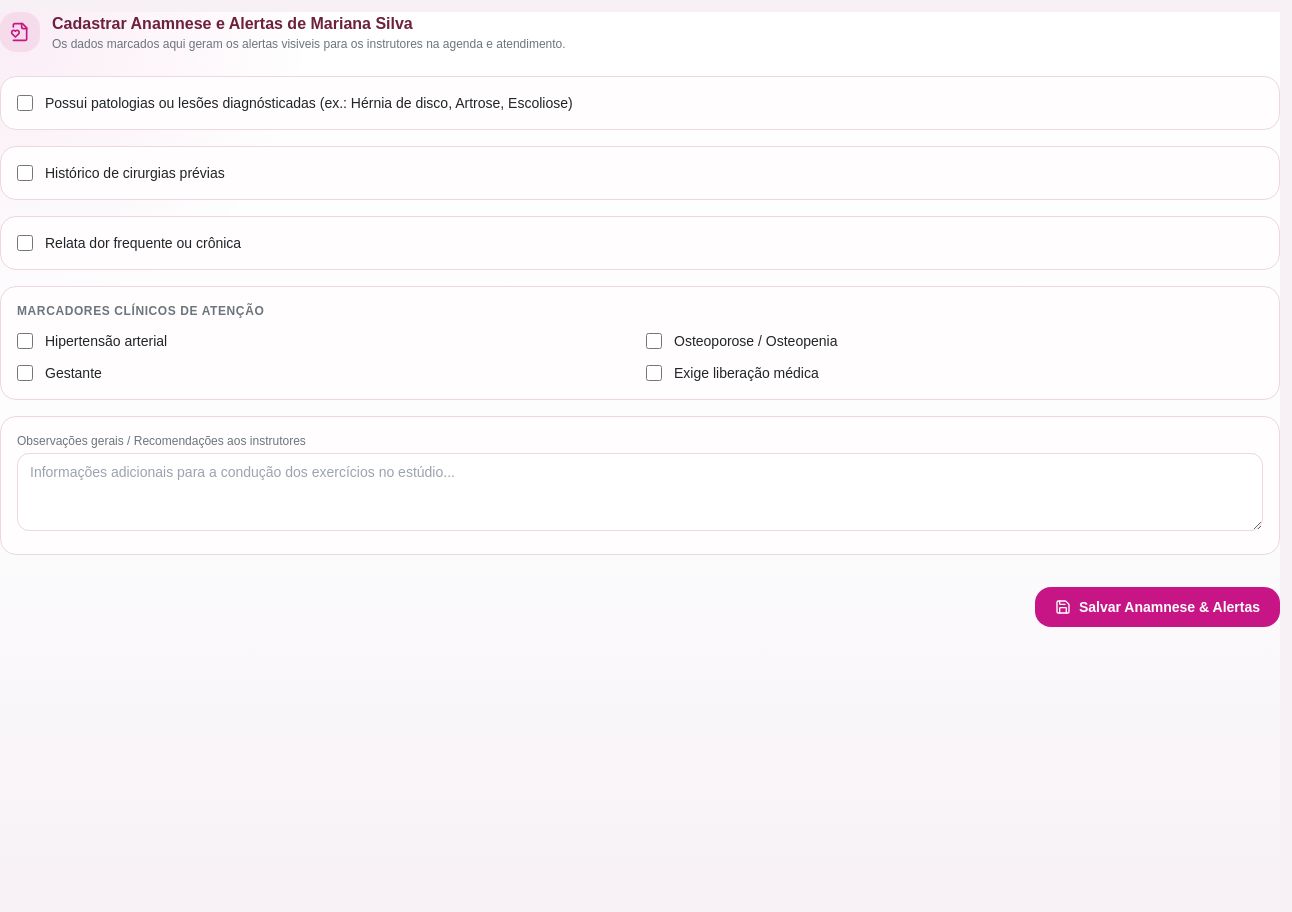
Scenario: AnamnesisForm component › exibe mensagem de erro quando a API retorna erro
The width and height of the screenshot is (1292, 912).
Click the button "Salvar Anamnese & Alertas": (1157, 607) [1035,587,1280,627]
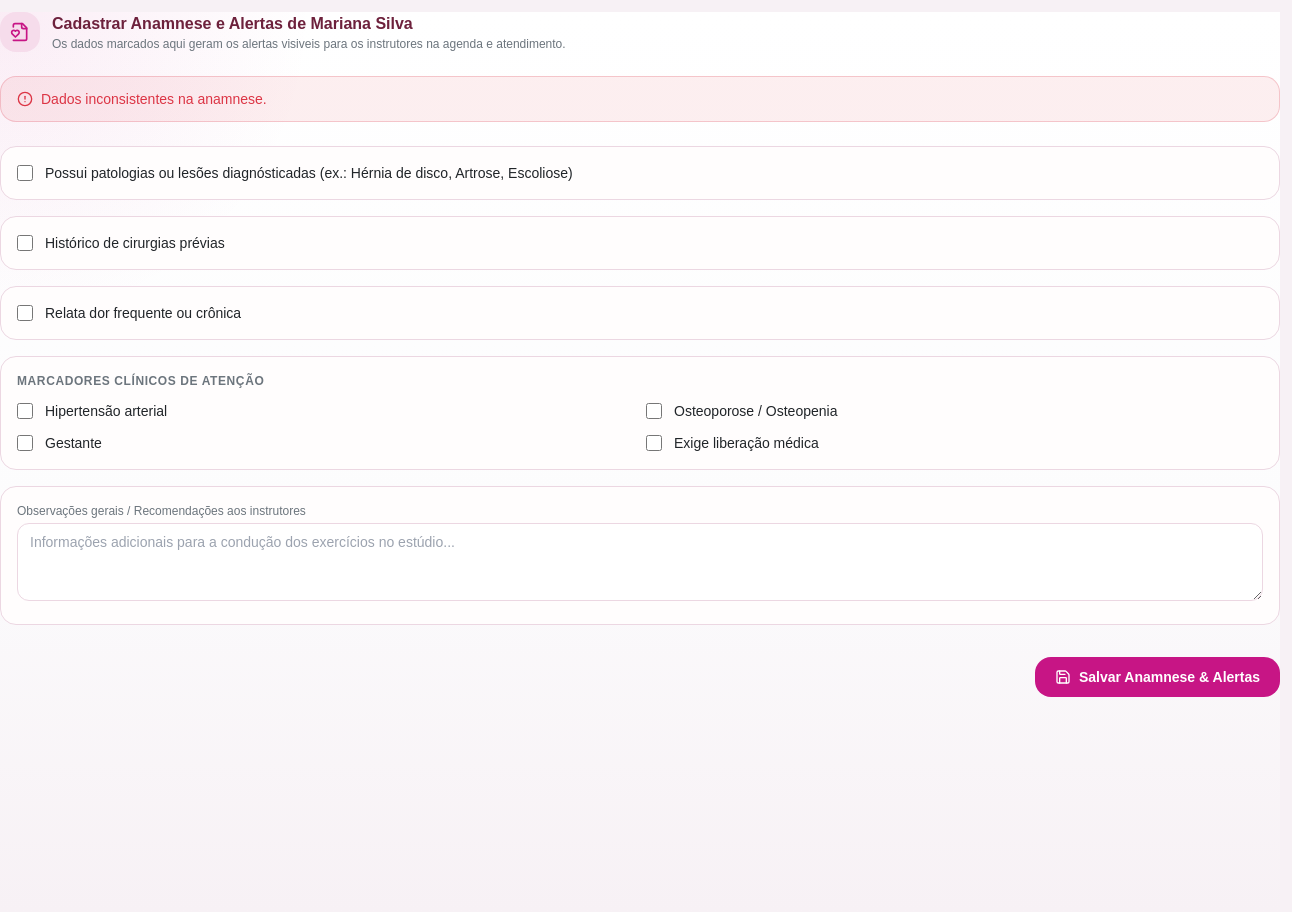
Check: the message reads "Dados inconsistentes na anamnese.", box [41,91,267,107]
